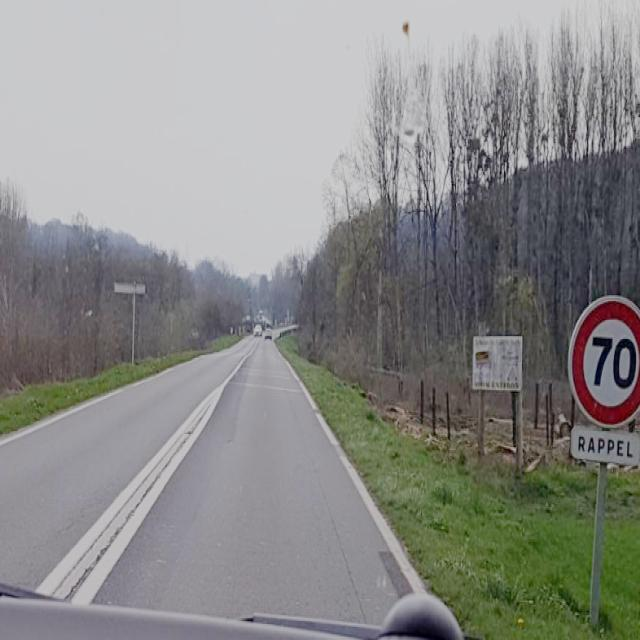speed_70: (571, 300, 640, 428)
